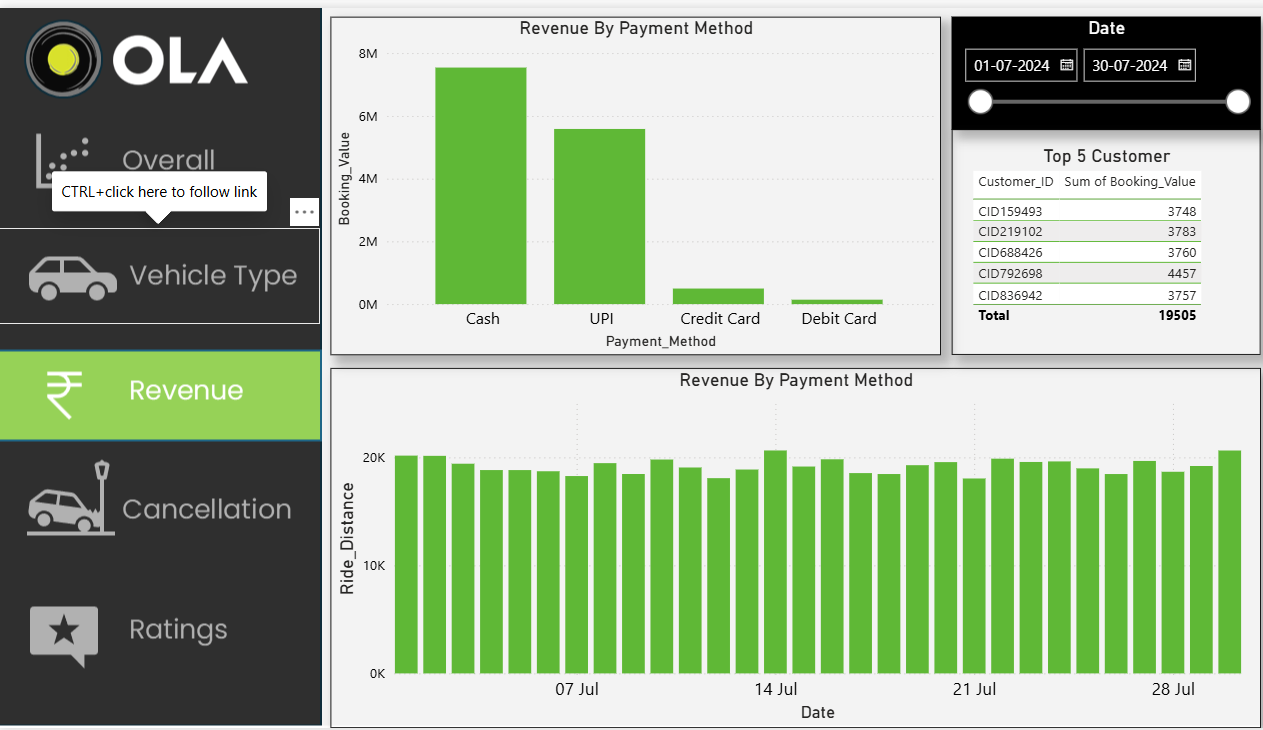

This screenshot's page, from the dashboard's own definition file:
{"tool":"powerbi","page":{"name":"Page 3","canvas":[1280,720],"ordinal":2},"visuals":[{"type":"actionButton","box":[0,111.4,322.9,95.7],"z":0},{"type":"actionButton","box":[0,220,322.9,95.7],"z":1000},{"type":"actionButton","box":[0,447.1,322.9,95.7],"z":2000},{"type":"actionButton","box":[0,581.4,322.9,95.7],"z":3000},{"type":"clusteredColumnChart","title":"Revenue By Payment Method","fields":{"Y":["Sum(July.Booking_Value)"],"Category":["July.Payment_Method"]},"box":[332.9,8.6,610,338.6],"z":4000},{"type":"clusteredColumnChart","title":"Revenue By Payment Method","fields":{"Y":["Sum(July.Ride_Distance)"],"Category":["July.Date"]},"box":[332.9,360,930,360],"z":5000},{"type":"slicer","title":"Date","fields":{"Values":["July.Date"]},"box":[953.8,8.8,308.8,112.5],"z":6000},{"type":"tableEx","title":"Top 5 Customer","fields":{"Values":["July.Customer_ID","Sum(July.Booking_Value)"]},"box":[954.3,121.4,308.6,225.7],"z":7000}]}

Visuals, with their boxes on the page's 1280x720 design canvas (x1, y1, x2, y2). These are canvas units, not pixel positions in the 1263x730 screenshot, which may show the page scaled, cropped or inside an application window:
actionButton: bbox=(0, 111, 323, 207)
actionButton: bbox=(0, 220, 323, 316)
actionButton: bbox=(0, 447, 323, 543)
actionButton: bbox=(0, 581, 323, 677)
"Revenue By Payment Method" clusteredColumnChart: bbox=(333, 9, 943, 347)
"Revenue By Payment Method" clusteredColumnChart: bbox=(333, 360, 1263, 720)
"Date" slicer: bbox=(954, 9, 1263, 121)
"Top 5 Customer" tableEx: bbox=(954, 121, 1263, 347)
